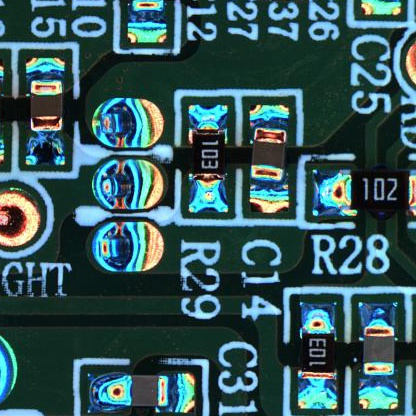spot: (82, 152, 171, 214), (80, 217, 169, 276), (87, 94, 169, 154)
